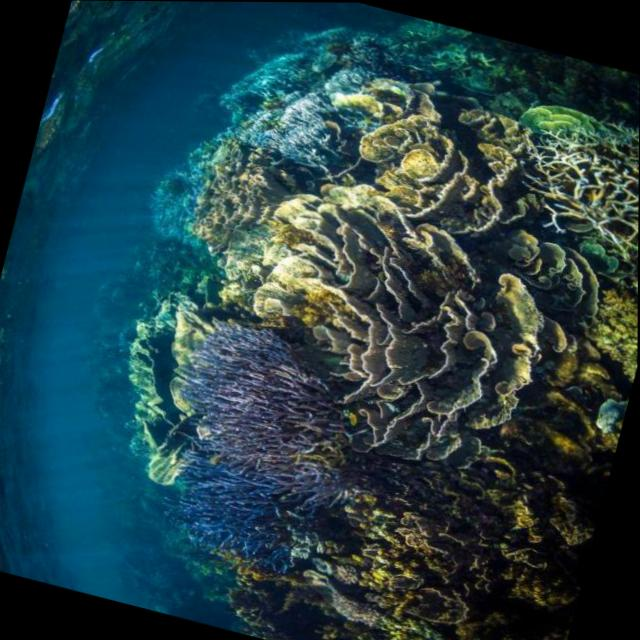Healthy Coral: (61, 0, 640, 640)
